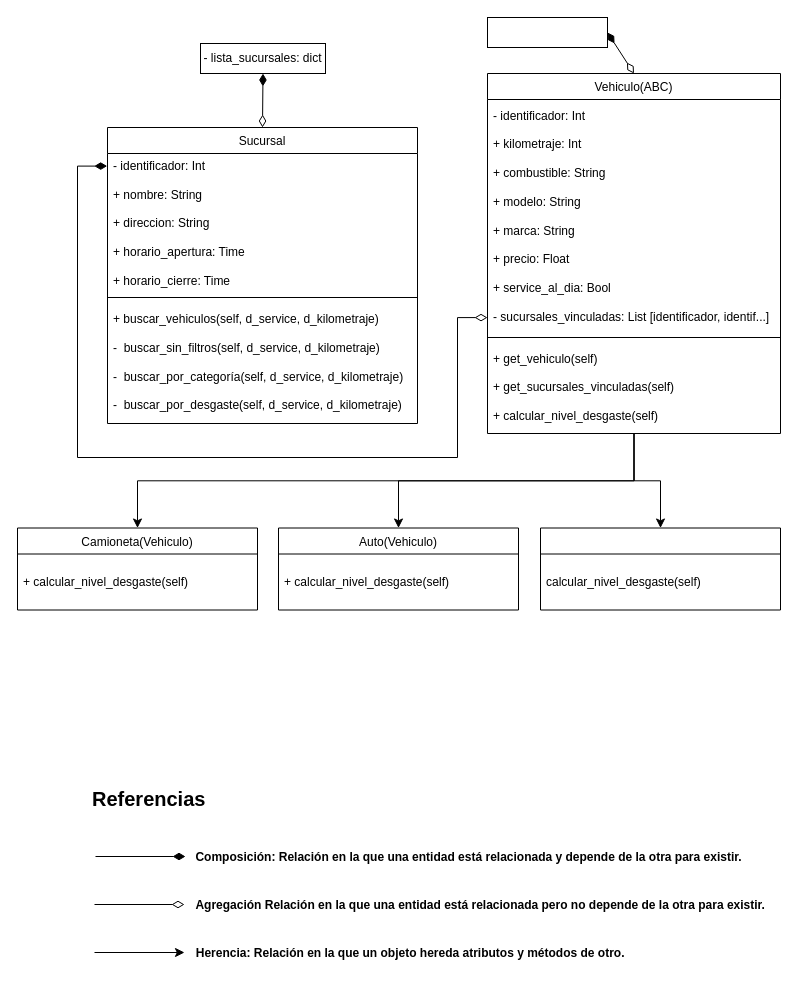
This 798x993 diagram has some shape labels left out. Each missing label, with the box of its shape:
- lista_vehiculos: dict: (486, 16, 608, 48)
Moto(Vehiculo): (540, 527, 780, 610)
